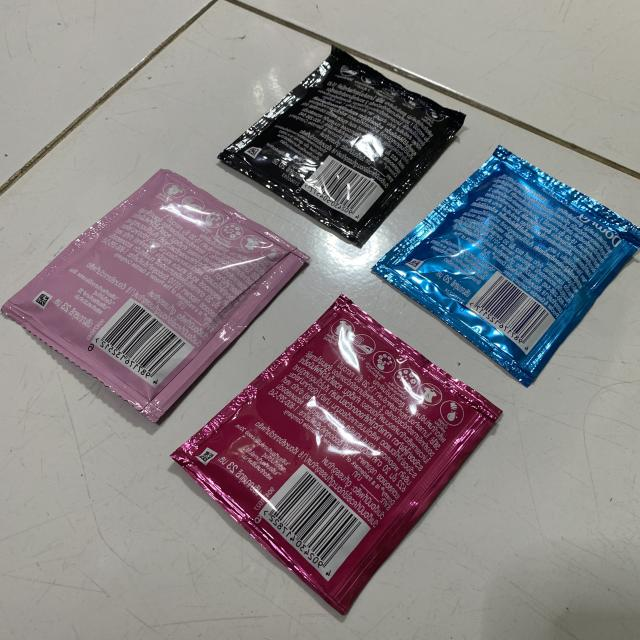plastik: (172, 296, 501, 614), (1, 170, 308, 421), (373, 147, 640, 386), (219, 47, 465, 247)
